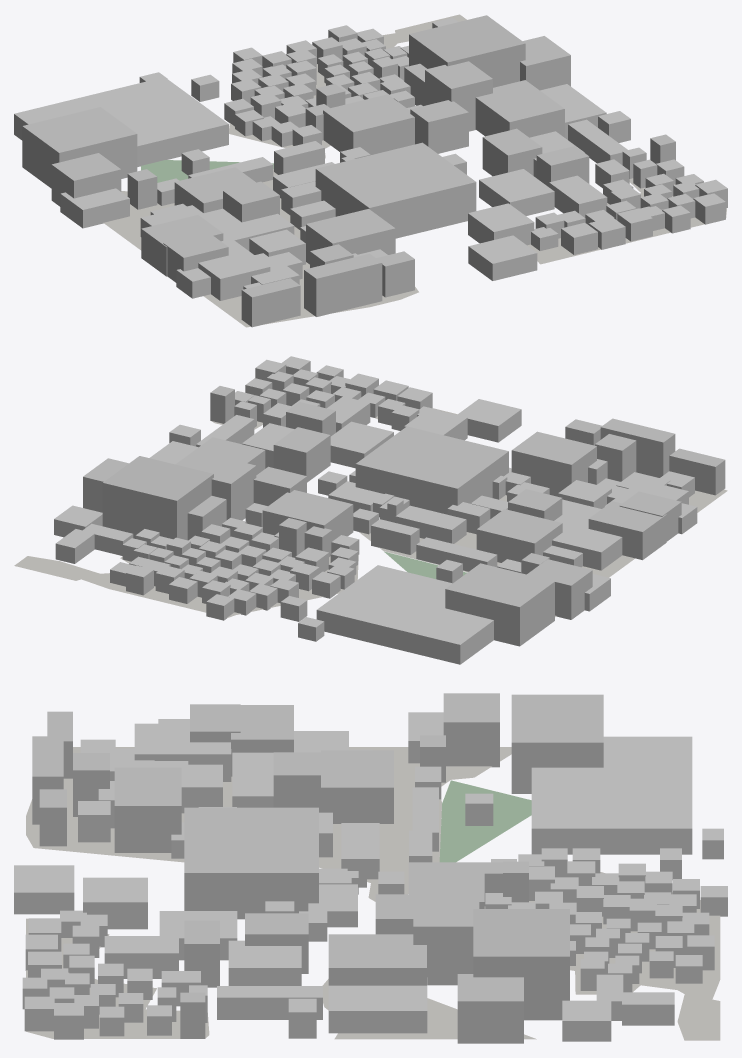
Rendered from 108_96_mid.glb.
3 renders of one model, top to bottom at view 1: azimuth 30°, elevation 25°; view 2: azimuth 150°, elevation 25°; view 3: azimuth 270°, elevation 25°, orthographic. The views are drawn at different scales.
Bounding box in the file's own units: 528 × 51.72 × 514.
